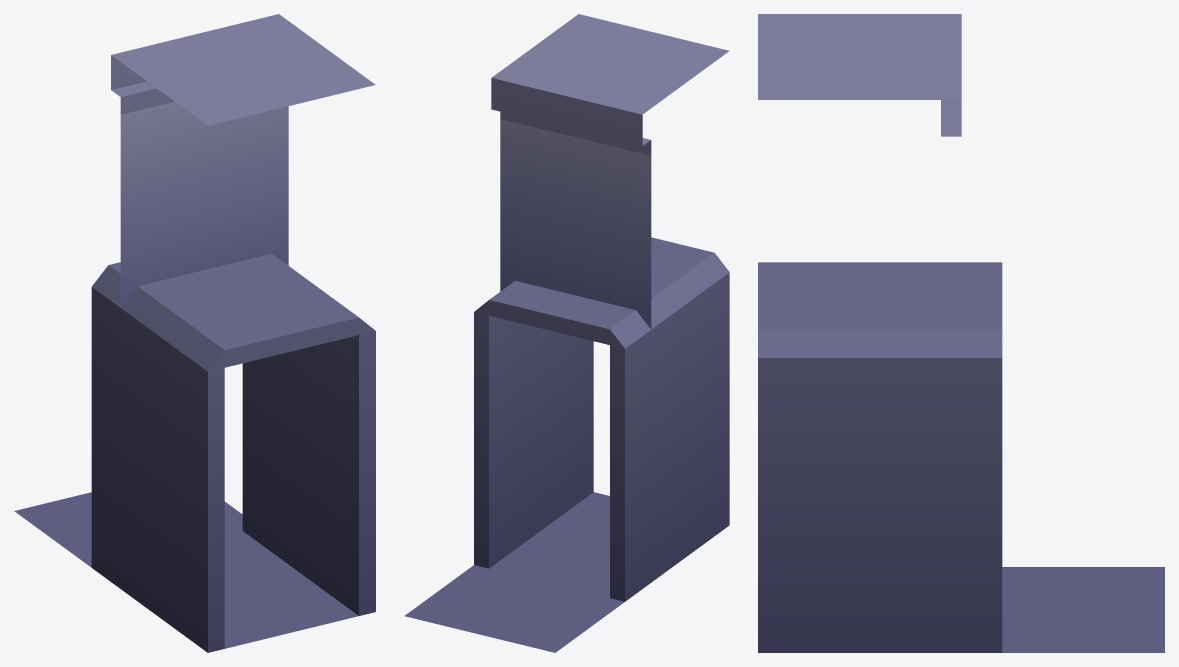
Rendered from structure-doorway.glb.
The picture shows the model from 3 angles, left to right: view 1: azimuth 30°, elevation 25°; view 2: azimuth 150°, elevation 25°; view 3: azimuth 270°, elevation 25°; orthographic projection. The views are drawn at different scales.
Visible parts, largest first — view 1: structure-doorway; view 2: structure-doorway; view 3: structure-doorway.
Boxes of the visible parts, bbox=[...] form: structure-doorway: bbox=[14, 14, 375, 652]; structure-doorway: bbox=[404, 14, 729, 652]; structure-doorway: bbox=[758, 14, 1164, 652].
Bounding box in the file's own units: 1 × 3 × 2.
